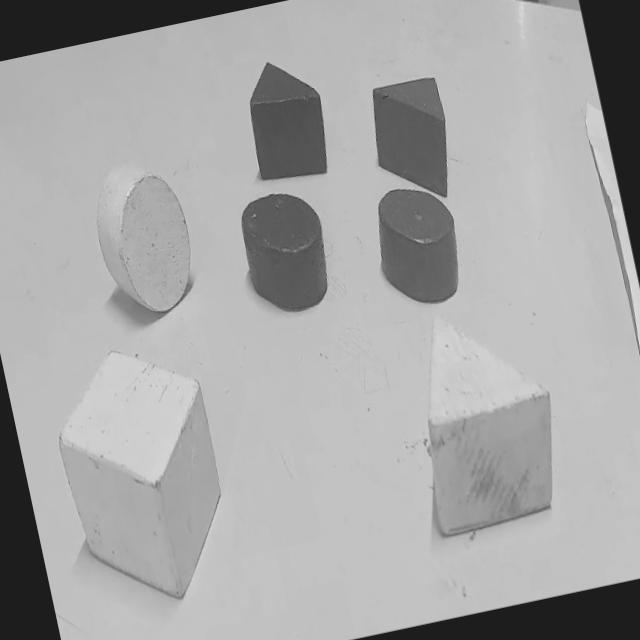bcircle: (231, 180, 339, 320)
btriangle: (234, 50, 337, 190)
rcircle: (364, 172, 471, 314)
rtriangle: (361, 71, 462, 208)
ycircle: (84, 156, 203, 322)
ycube: (41, 331, 245, 618)
ytriangle: (396, 296, 574, 538)
